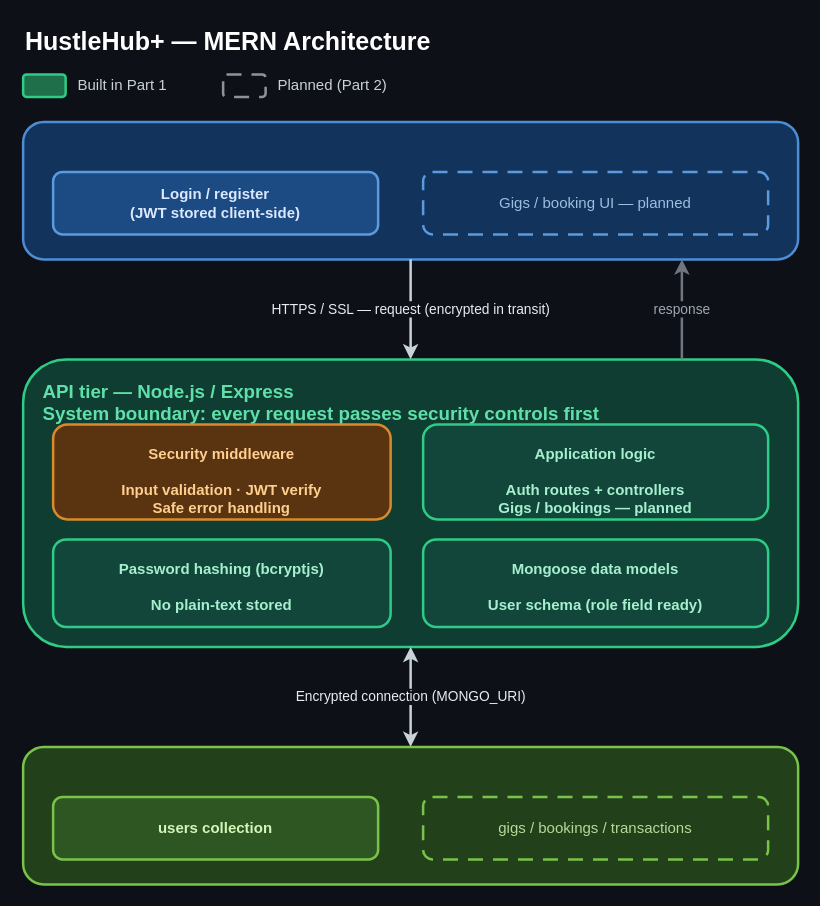
Image size: 820x906. Some labels were removed from this diagram. Here are the shapes that lost their labels. From the top down, the box of each, then its label:
(21, 120, 799, 260): Client tier (React)
(21, 745, 799, 885): Data tier — MongoDB Atlas (cloud)
